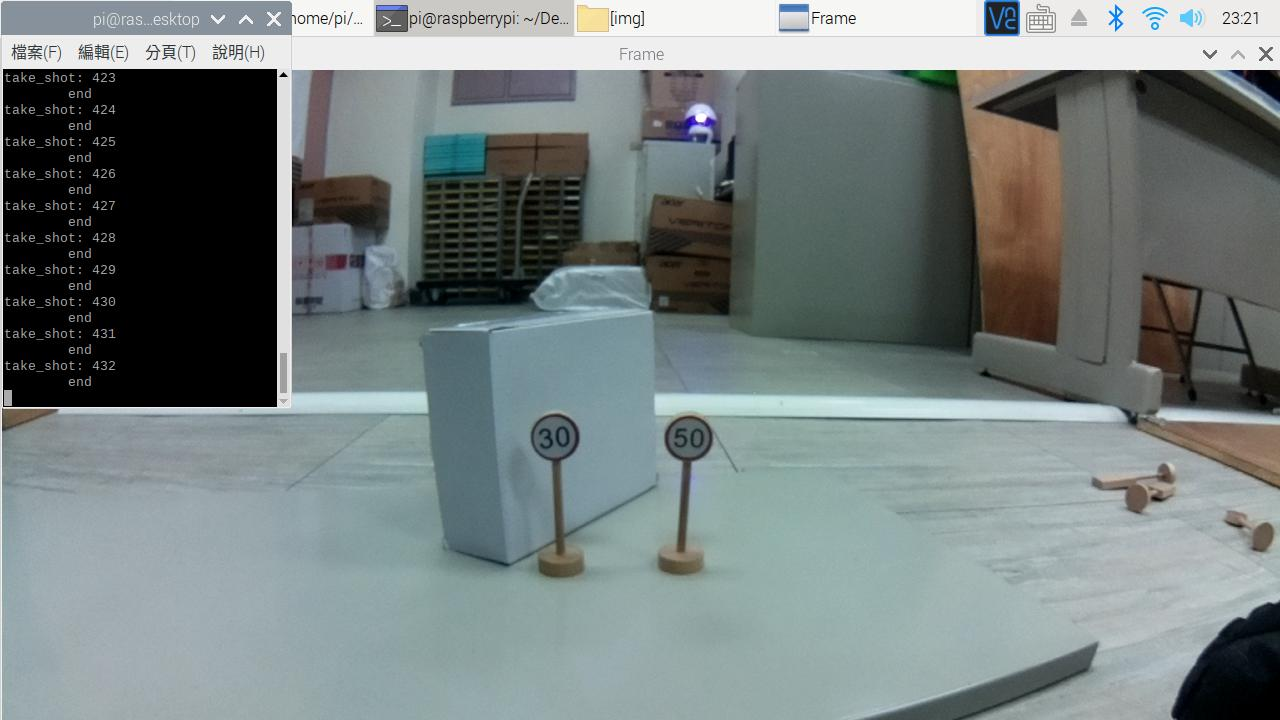Speed30: (518, 411, 592, 477)
Speed50: (644, 400, 721, 496)
